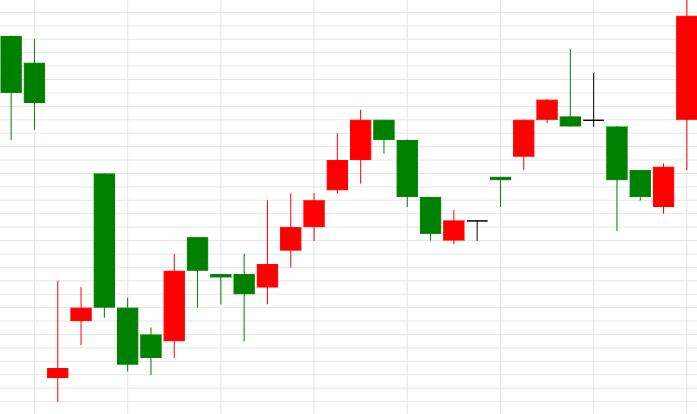three_black_crows_fall: (233, 108, 441, 342)
